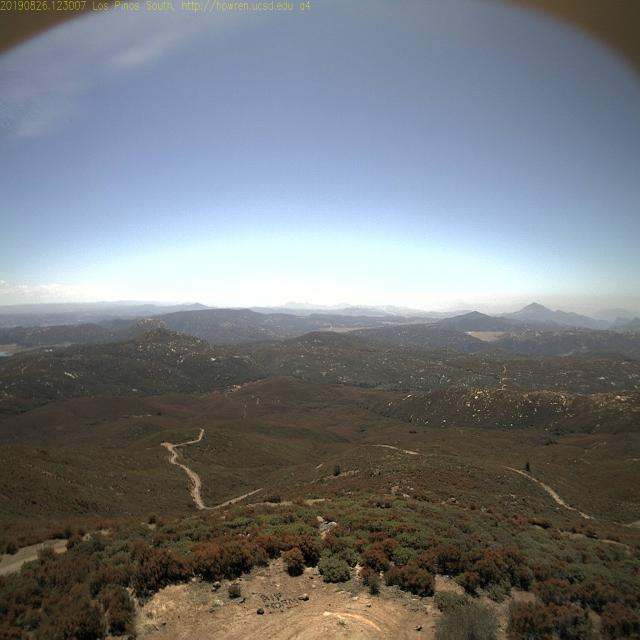smoke: (382, 301, 397, 318)
